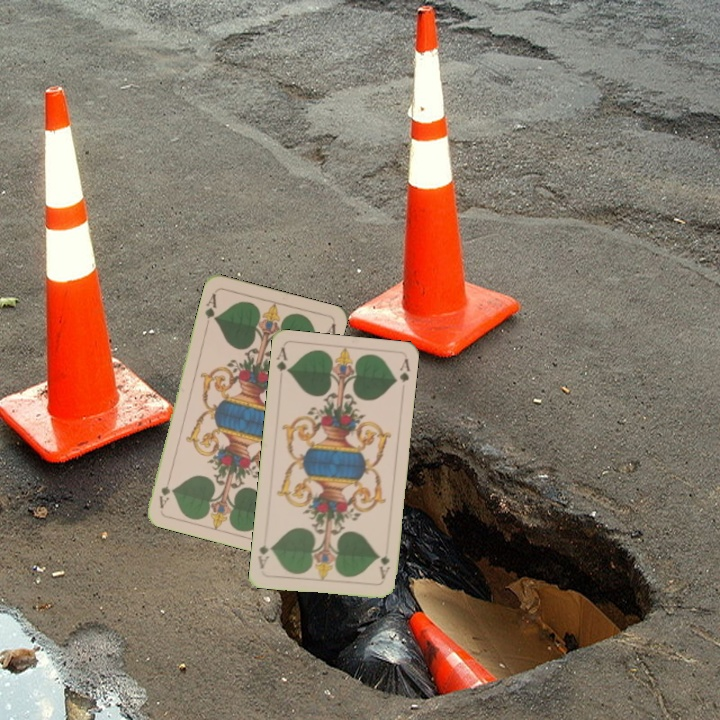GA: (201, 289, 220, 323), (273, 344, 292, 375), (375, 549, 393, 581)
